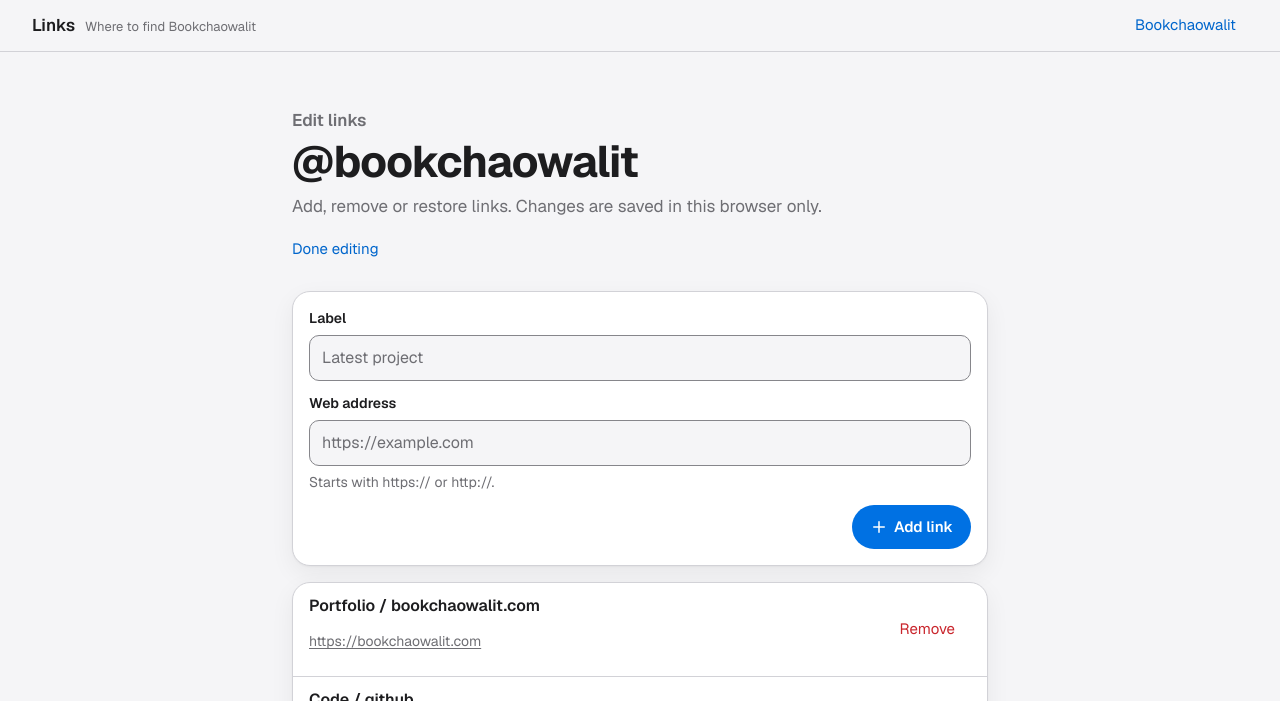
Test case: owner editor at /edit › keyboard remove focuses Undo; Undo focuses the restored link, Escape the next one
Later steps or results of the test are not shown.
Click the button "Remove" in the row of "Portfolio / bookchaowalit.com": (927, 630) [888,608,967,652]
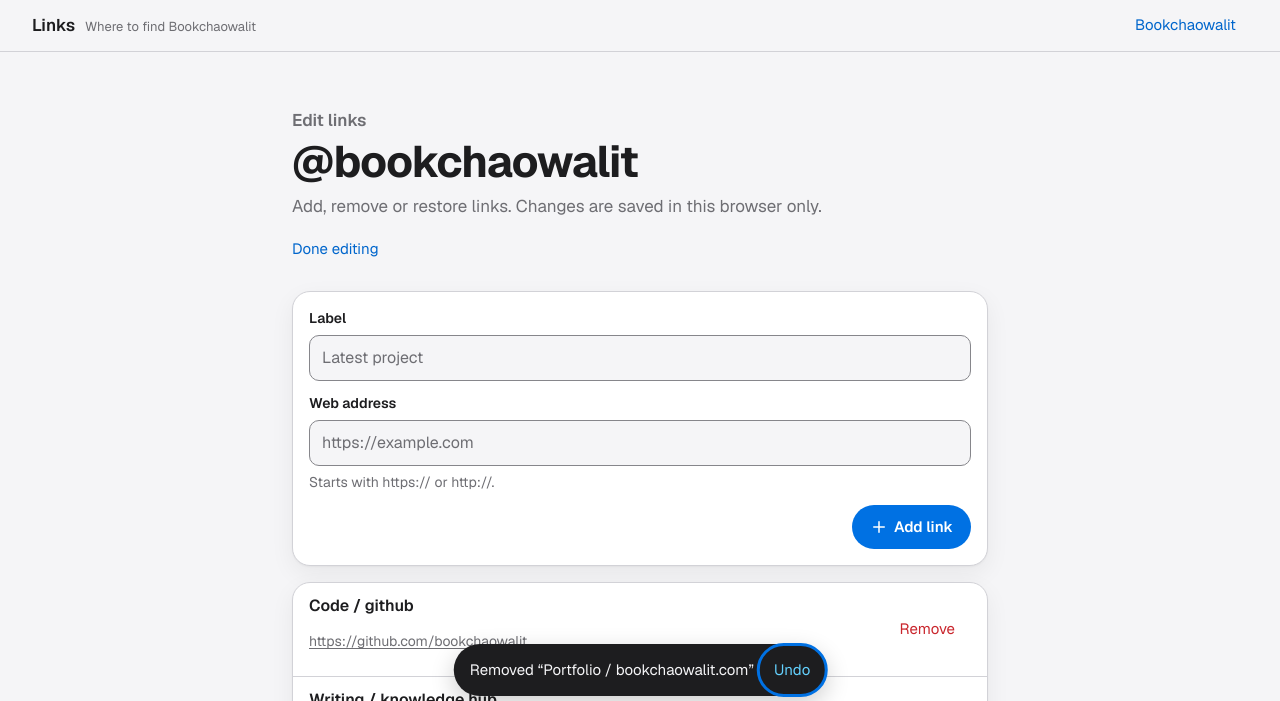
Click the button "Undo": (792, 670) [762,648,822,692]
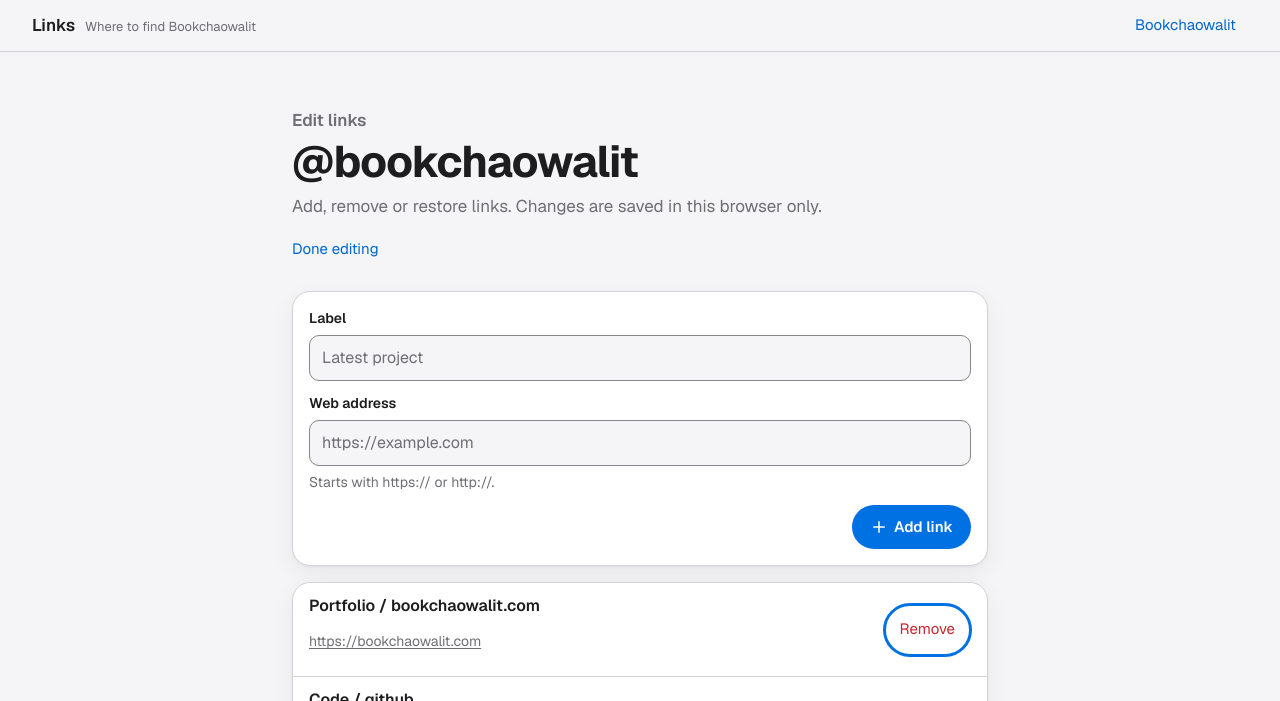
Expected: the heading "Portfolio / bookchaowalit.com" is shown, [309,595,540,616]
Click the button "Remove" in the row of "Portfolio / bookchaowalit.com": (927, 630) [888,608,967,652]
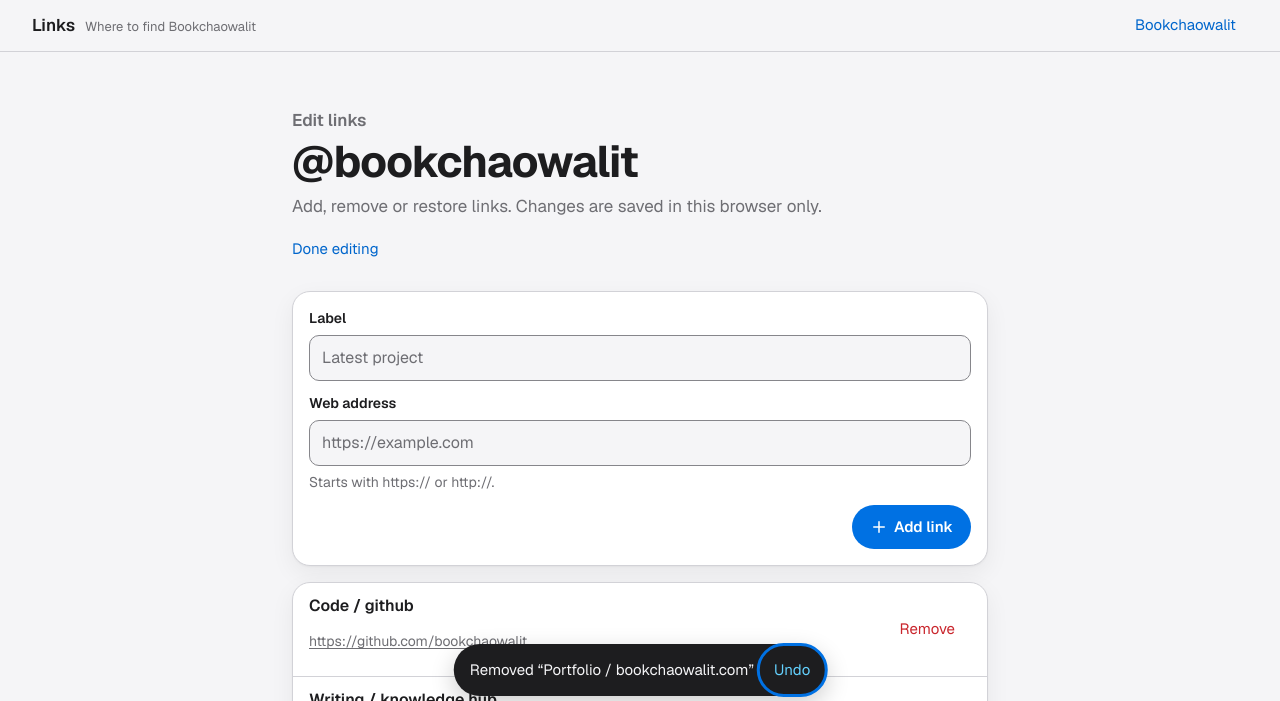
Press Escape in the element with class "as-toast", box [454,644,826,696]
(page scrolled)
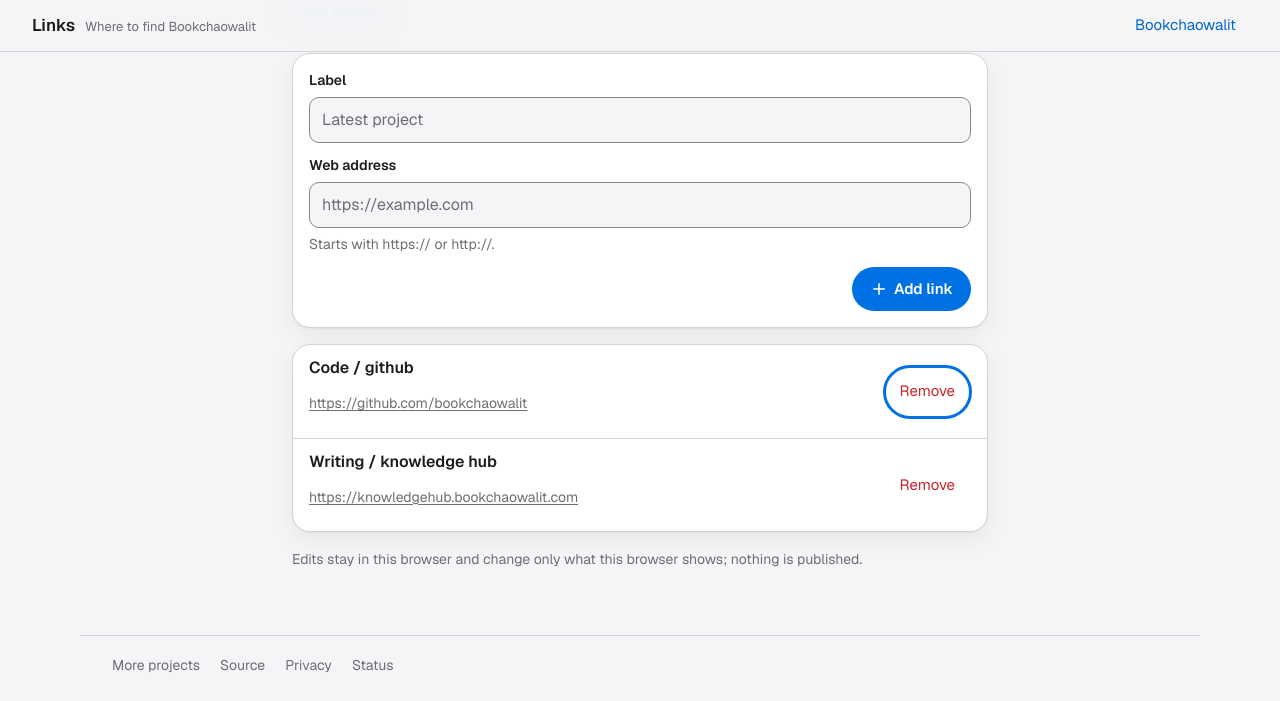
Now the element with class "as-toast" is gone
